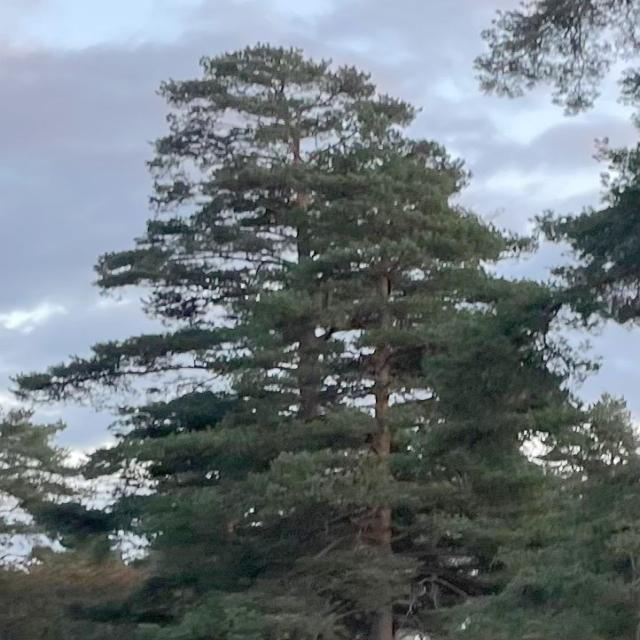pine: (75, 8, 528, 618)
